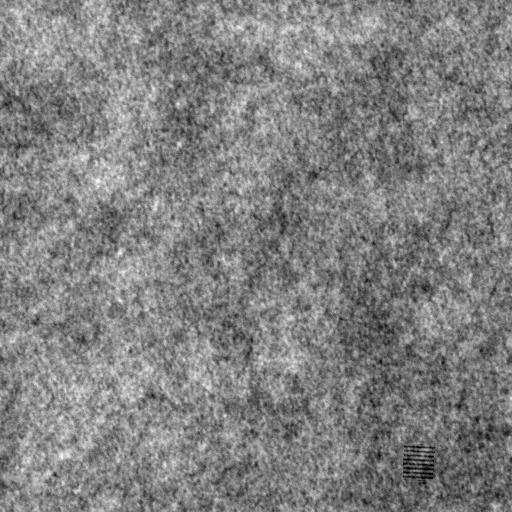impact: (400, 442, 437, 481)
